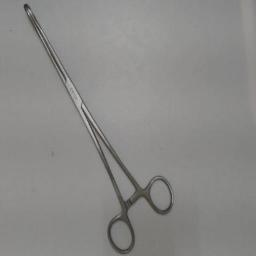Sponge Forceps: (22, 2, 178, 254)
